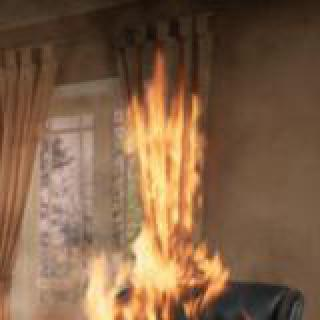fire: (0, 242, 300, 320), (119, 50, 218, 245)
